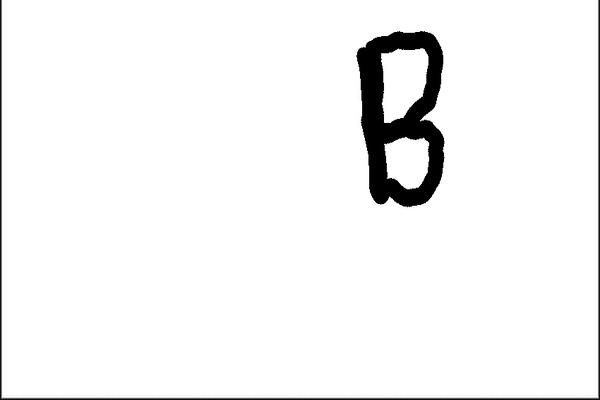B: (345, 24, 452, 210)
